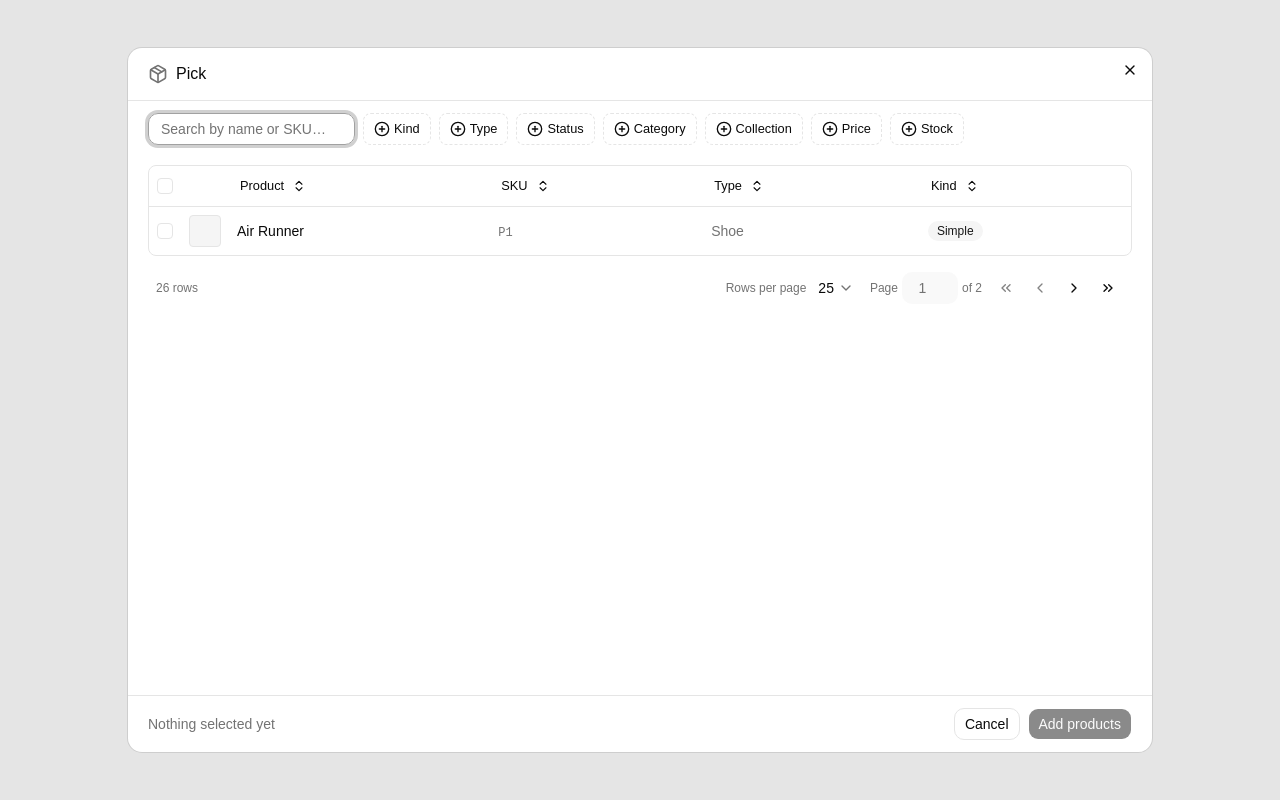
Test: ProductPickerDialog › holds the loaded page and its selections while the next page is pending
What coordinates should you click on to do the following:
click the checkbox named "Select Air Runner"
I would click on:
 (165, 230)
Its box is [157,222,173,238].
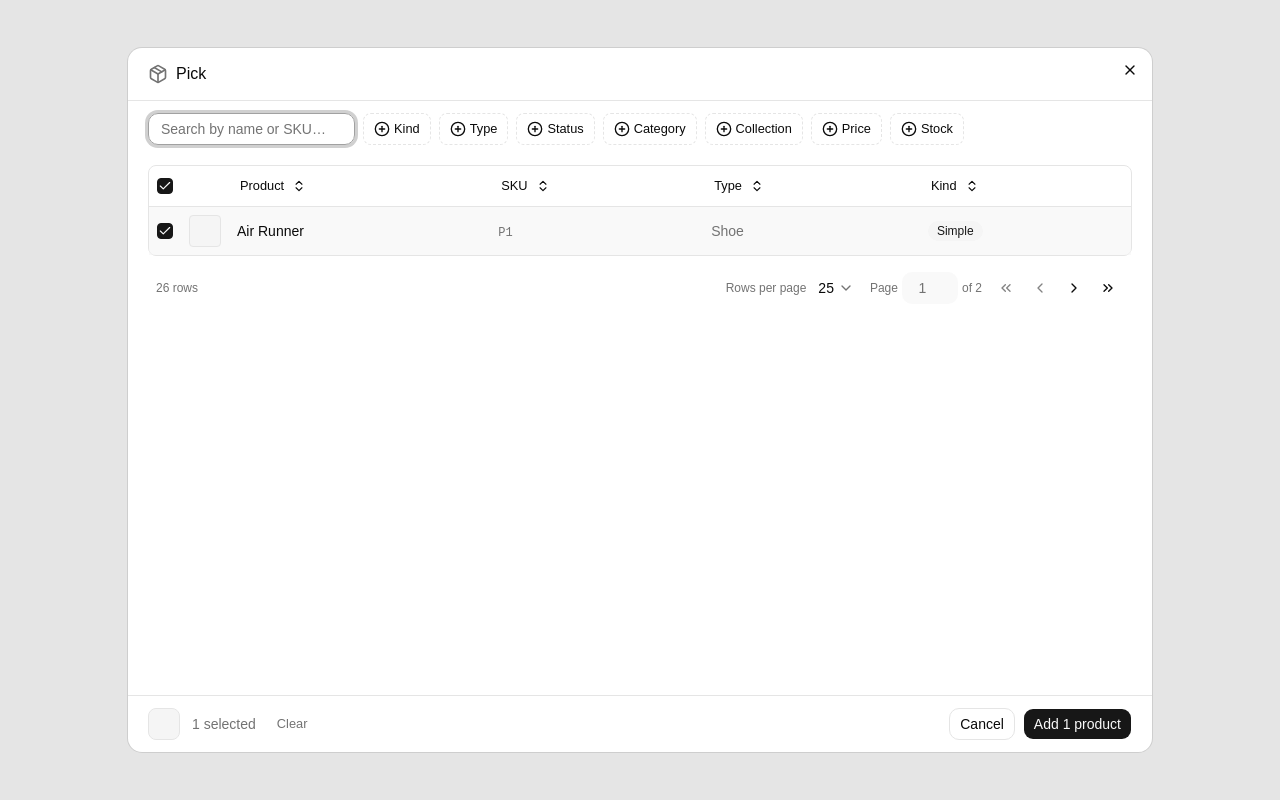
What coordinates should you click on to do the following:
click the button named "Next page"
I would click on:
 (1074, 288)
Its box is [1058,272,1090,304].
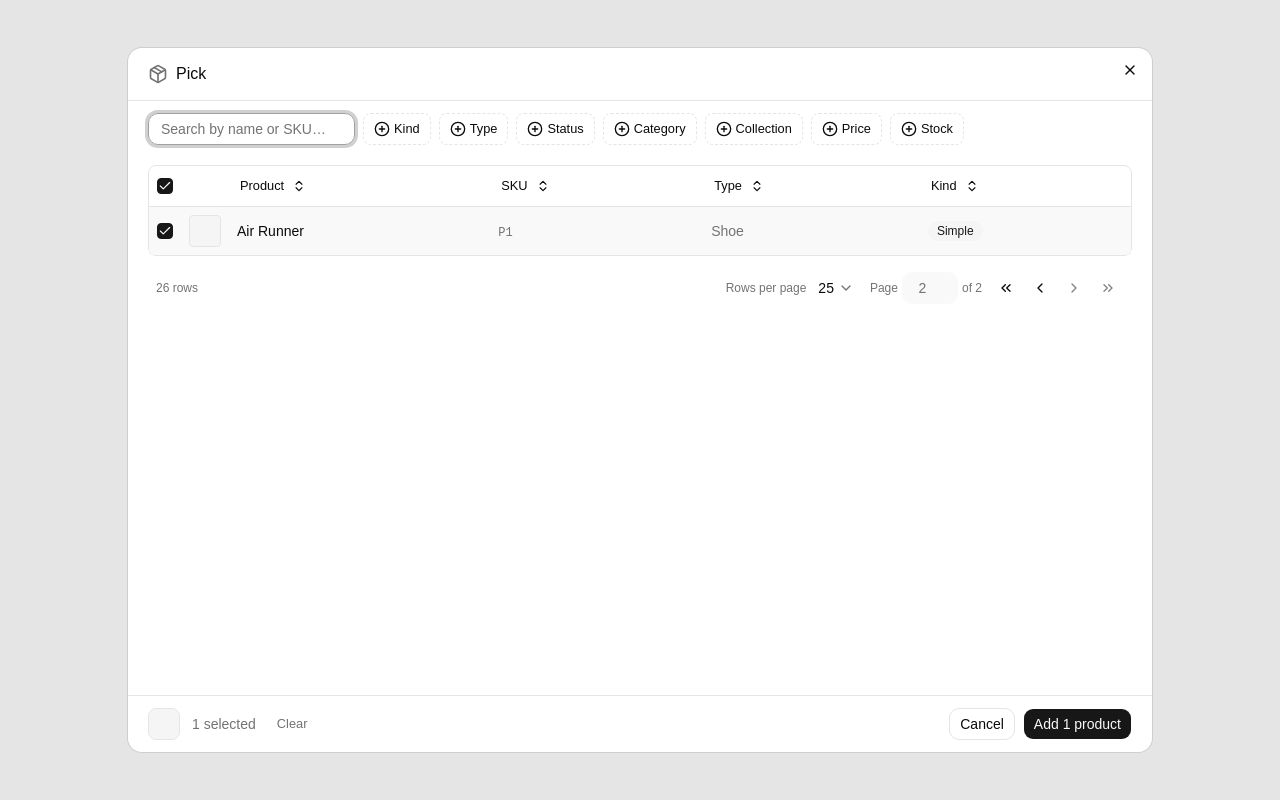
Now the checkbox named "Select Air Runner" is checked, box [157,222,173,238]
Now the text "1 selected" is shown, box [192,714,256,734]
Now the number field named "Go to page" holds "2", box [902,272,958,304]
